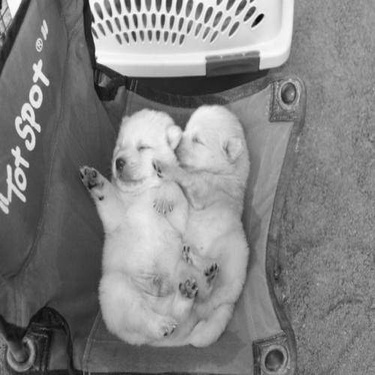dog: (68, 96, 224, 349), (143, 96, 259, 350)
